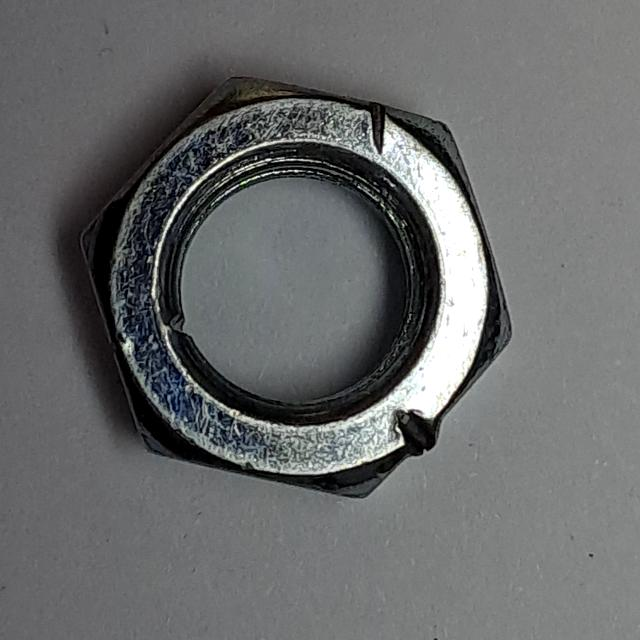Scratches: (70, 62, 522, 506)
